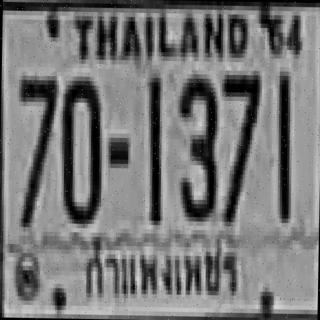N00: (59, 74, 104, 225)
N01: (144, 73, 166, 227), (275, 67, 294, 226)
N03: (176, 70, 220, 225)
N07: (14, 71, 57, 226), (220, 68, 262, 224)
P16: (80, 231, 240, 305)
